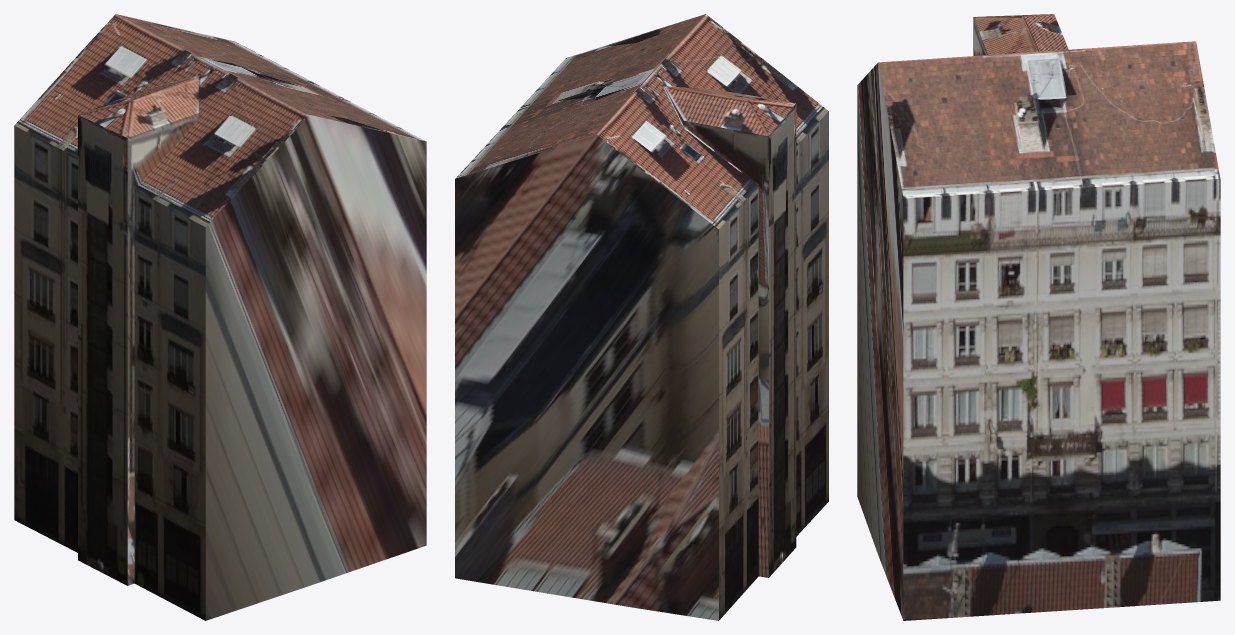
The picture shows the model from 3 angles, left to right: view 1: azimuth 30°, elevation 25°; view 2: azimuth 150°, elevation 25°; view 3: azimuth 270°, elevation 25°; orthographic projection. The views are drawn at different scales.
Visible parts, largest first — view 1: Z_UP; view 2: Z_UP; view 3: Z_UP.
Part boxes in pixels (bbox=[...]): Z_UP: bbox=[14, 14, 426, 620]; Z_UP: bbox=[455, 14, 828, 620]; Z_UP: bbox=[857, 14, 1220, 620].
Bounding box in the file's own units: 17.33 × 27.53 × 18.39.
2 materials, 1 textured.
